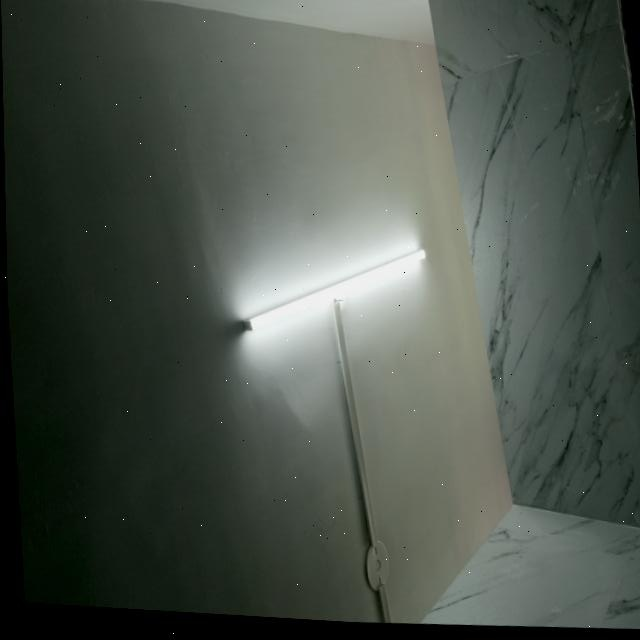fluorescent tube: (230, 233, 433, 359)
